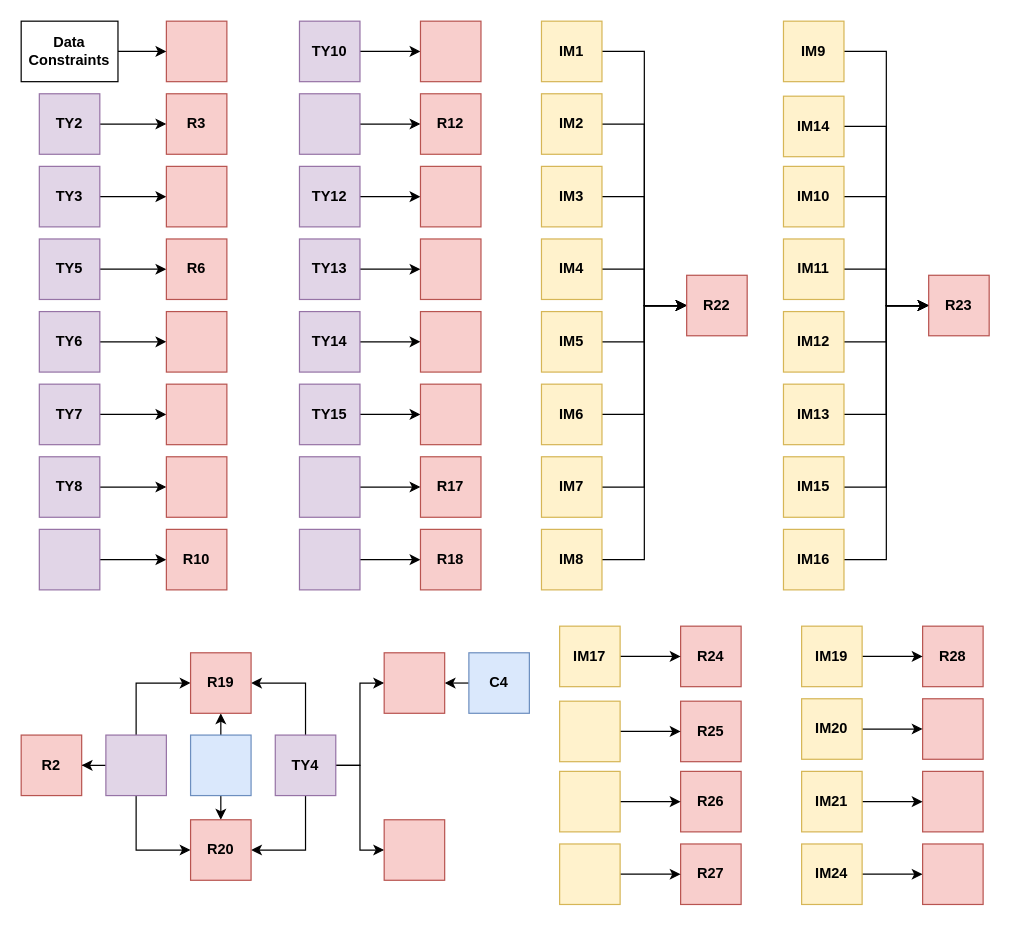
Image size: 1010x926. Some labels were removed from this diagram. Each missing label, with the centre of its shape:
"C3" belongs at (220,765).
"IM18" belongs at (589,873).
"IM22" belongs at (589,731).
"IM23" belongs at (589,801).
"R1" belongs at (196,51).
"R11" belongs at (450,51).
"R13" belongs at (450,196).
"R14" belongs at (450,268).
"R15" belongs at (450,341).
"R16" belongs at (450,414).
"R21" belongs at (414,682).
"R29" belongs at (952,728).
"R30" belongs at (952,801).
"R31" belongs at (952,873).
"R4" belongs at (196,196).
"R5" belongs at (414,849).
"R7" belongs at (196,341).
"R8" belongs at (196,414).
"R9" belongs at (196,486).
"TY1" belongs at (135,765).
"TY11" belongs at (329,123).
"TY16" belongs at (329,486).
"TY17" belongs at (329,559).
"TY9" belongs at (69,559).
